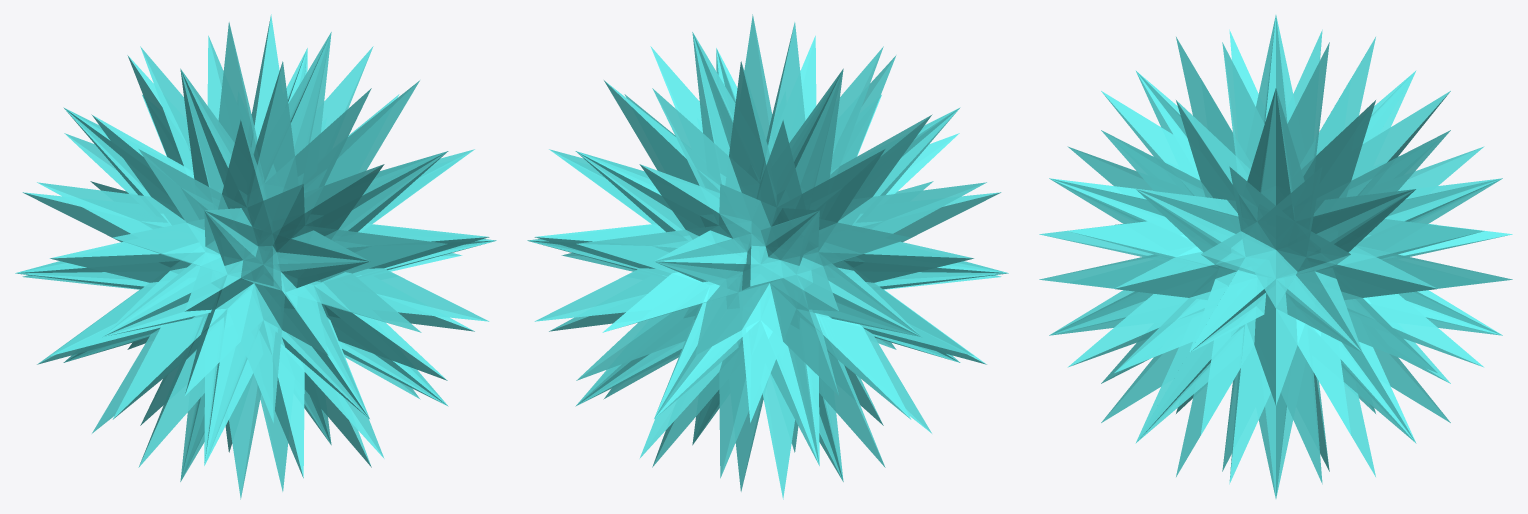
Rendered from SmallHexagrammicHexecontahedron.obj.
3 views of the same model, side by side, from view 1: azimuth 30°, elevation 25°; view 2: azimuth 150°, elevation 25°; view 3: azimuth 270°, elevation 25° (orthographic).
Bounding box in the file's own units: 2.73 × 2.73 × 2.73.
